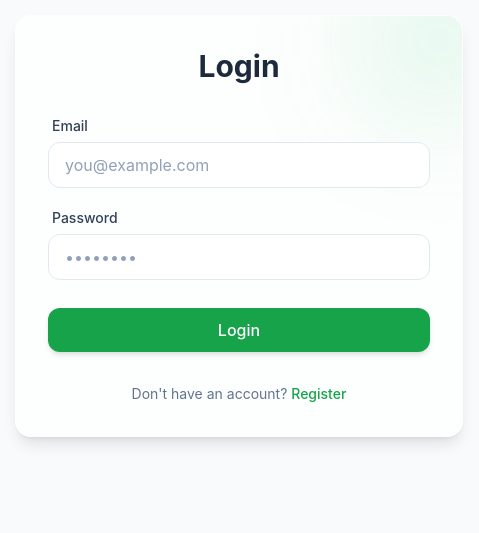
Scenario: Login page › error messages › shows the HTTP status when the error body is not JSON
Step 1. Type "ada@example.com" into the field with placeholder "you@example.com" → (239, 165), box [48,142,430,188]
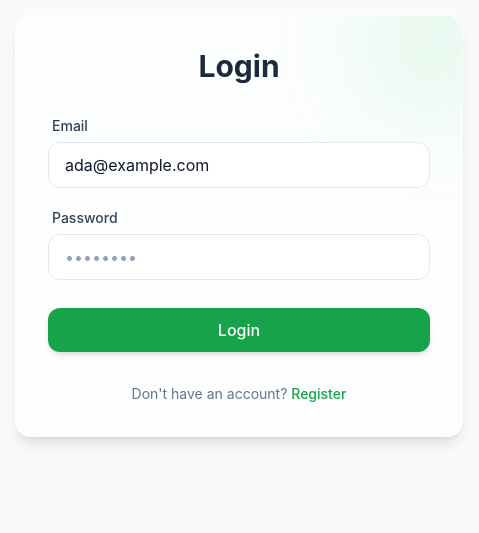
Step 2. Type "secret123" into the password field with placeholder "••••••••" → (239, 257), box [48,234,430,280]
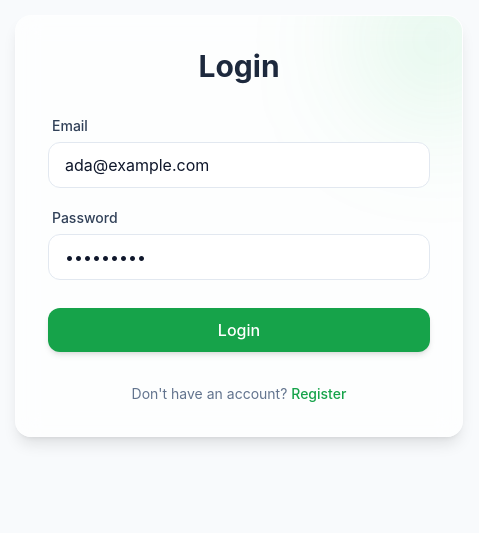
Step 3. Click the button "Login" → (239, 330), box [48,308,430,352]
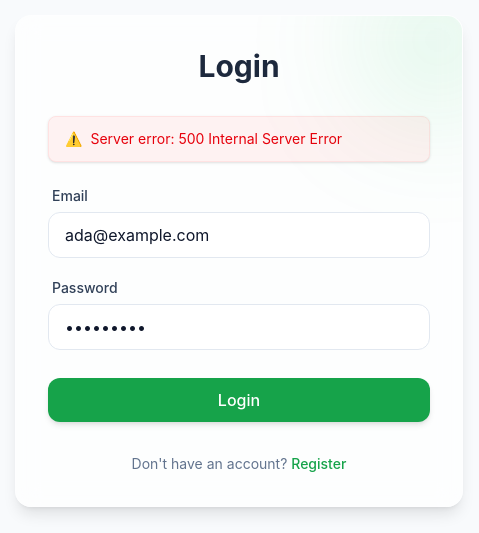
Check: the text "⚠️ Server error: 500 Internal Server Error" is shown, box [48,116,430,162]
